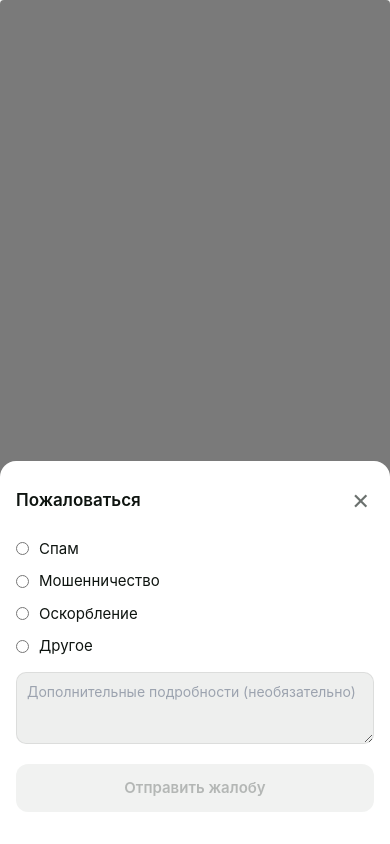
Test: ComplaintSheet › кнопка активна после выбора причины
Click the radio button with test id "reason-spam": (22, 549) [16,542,29,555]
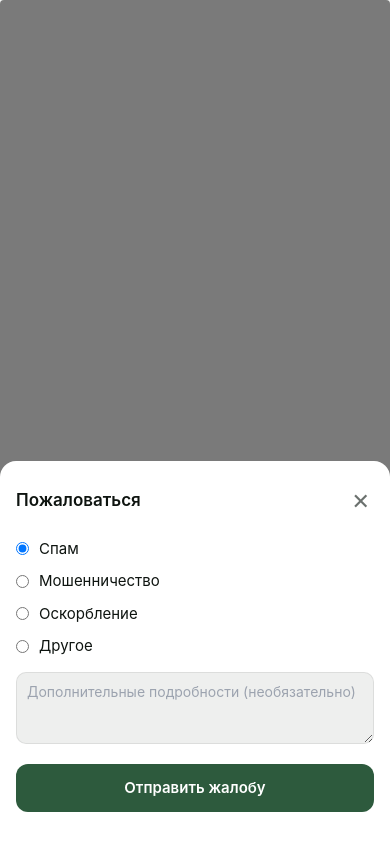
Now the button with test id "complaint-submit" is enabled, box [16,764,374,812]
